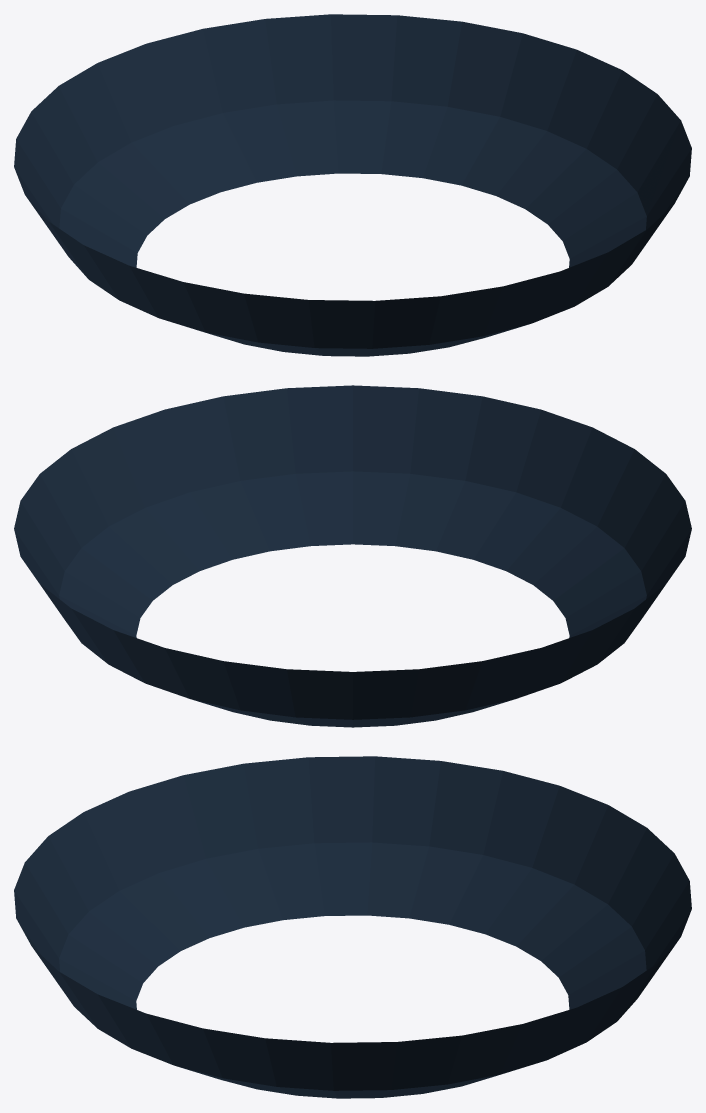
The model's file is Habitat_4_LODGroup.fbx.
3 views of the same model, one above another, from view 1: azimuth 30°, elevation 25°; view 2: azimuth 150°, elevation 25°; view 3: azimuth 270°, elevation 25° (orthographic).
Visible parts, largest first — view 1: Habitat 4_LOD0; view 2: Habitat 4_LOD0; view 3: Habitat 4_LOD0.
Boxes of the visible parts, x1,y1,x2,y2 form: Habitat 4_LOD0: [14, 14, 691, 356]; Habitat 4_LOD0: [14, 385, 691, 727]; Habitat 4_LOD0: [14, 756, 691, 1098].
Size of what is drawn, in the model's own units: 385 by 67.36 by 385.
